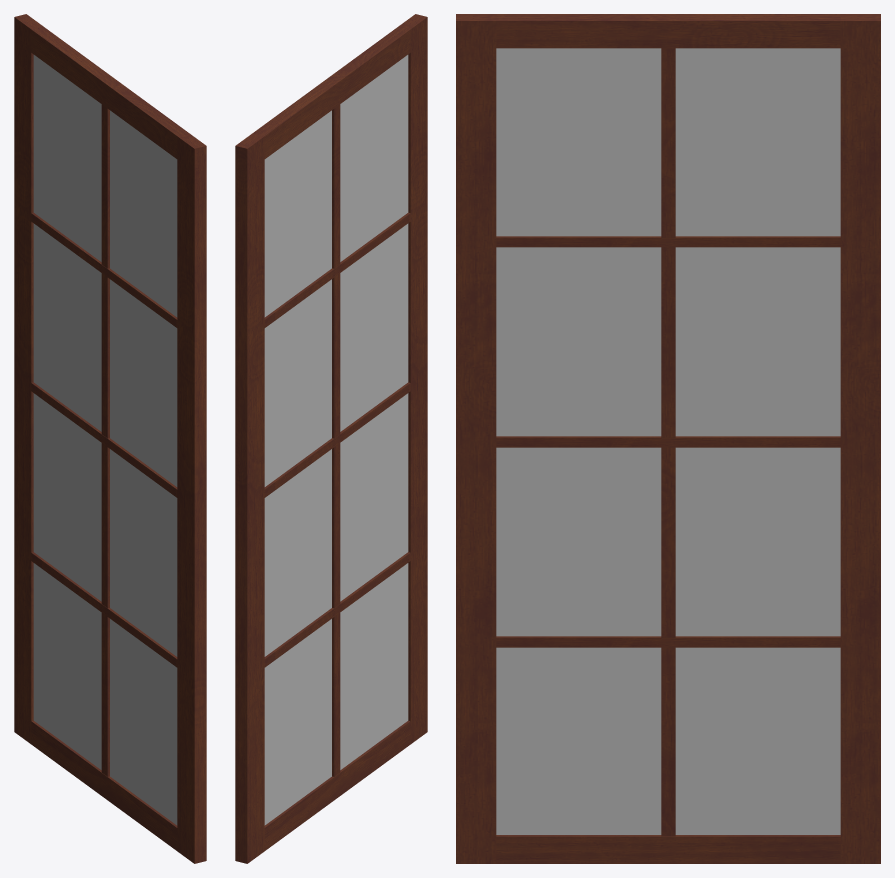
The model's file is SM_InnerDoor01R.fbx.
The picture shows the model from 3 angles, left to right: view 1: azimuth 30°, elevation 25°; view 2: azimuth 150°, elevation 25°; view 3: azimuth 270°, elevation 25°; orthographic projection. The views are drawn at different scales.
Visible parts, largest first — view 1: SM_InnerDoor01R; view 2: SM_InnerDoor01R; view 3: SM_InnerDoor01R.
Part boxes in pixels (<box>): SM_InnerDoor01R: <box>14,14,206,863</box>; SM_InnerDoor01R: <box>235,14,427,863</box>; SM_InnerDoor01R: <box>456,14,880,863</box>.
Bounding box in the file's own units: 2.32 × 59.66 × 131.
2 materials, 1 textured.
